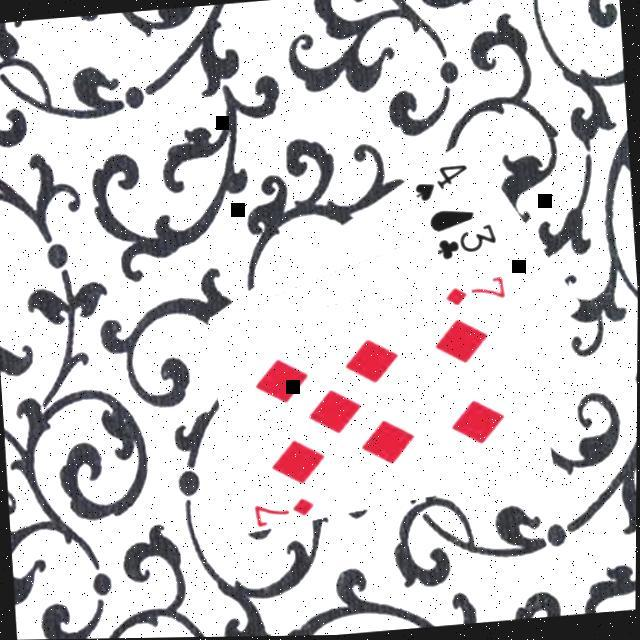3C: (434, 218, 502, 262)
4S: (411, 158, 474, 204)
7D: (442, 274, 510, 308), (252, 491, 320, 525)
